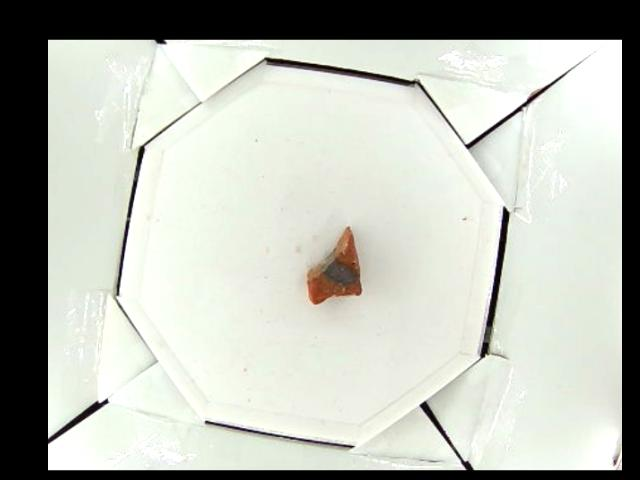Brisk: (307, 226, 362, 306)
